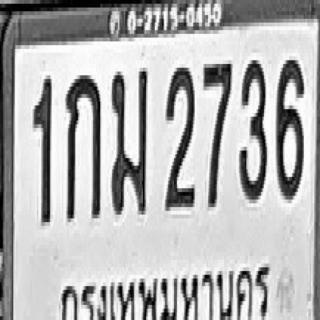A01: (65, 72, 100, 218)
A33: (111, 64, 147, 215)
N01: (32, 74, 52, 224)
N02: (164, 64, 194, 207)
N03: (239, 56, 267, 200)
N06: (276, 54, 304, 198)
N07: (202, 60, 232, 207)
P04: (55, 252, 270, 320)
